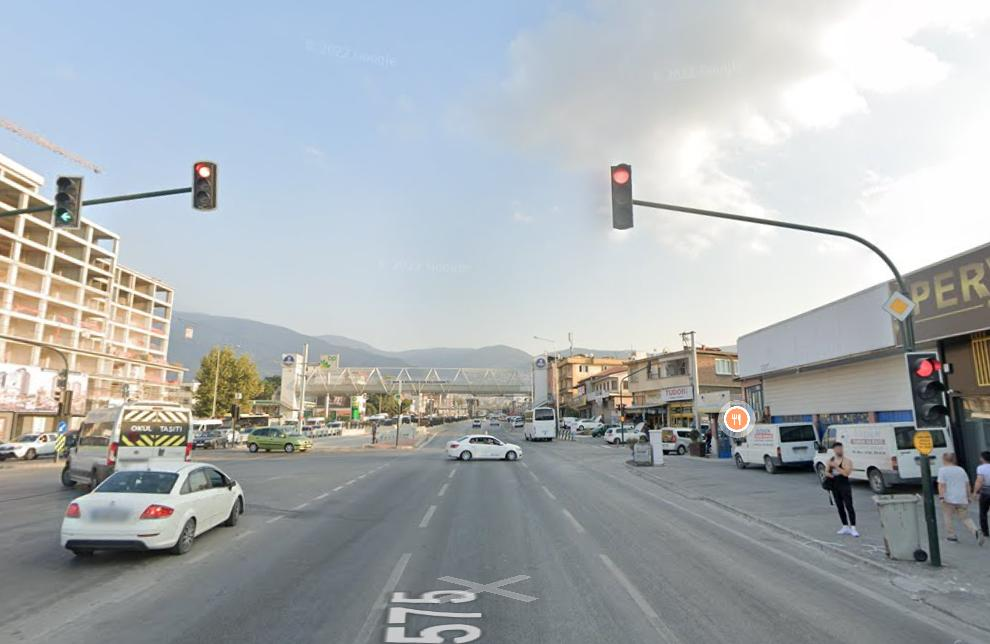greenlight: (56, 177, 81, 229)
redlight: (909, 348, 940, 431), (612, 164, 635, 230), (194, 161, 215, 207)
